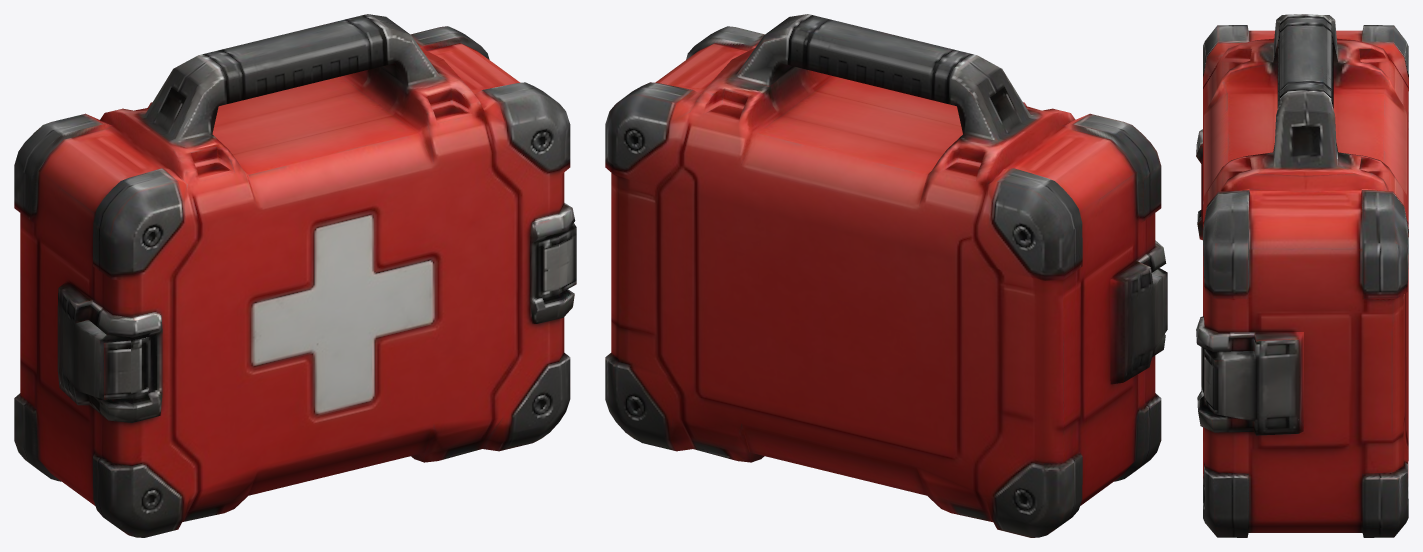
The model's file is health_kit.glb.
The picture shows the model from 3 angles, left to right: view 1: azimuth 30°, elevation 25°; view 2: azimuth 150°, elevation 25°; view 3: azimuth 270°, elevation 25°; orthographic projection. The views are drawn at different scales.
Visible parts, largest first — view 1: tripo_node_77e48288-133c-453d-bf0f-749793dce642; view 2: tripo_node_77e48288-133c-453d-bf0f-749793dce642; view 3: tripo_node_77e48288-133c-453d-bf0f-749793dce642.
Boxes of the visible parts, x1=… form: tripo_node_77e48288-133c-453d-bf0f-749793dce642: x1=14, y1=14, x2=576, y2=537; tripo_node_77e48288-133c-453d-bf0f-749793dce642: x1=605, y1=14, x2=1167, y2=537; tripo_node_77e48288-133c-453d-bf0f-749793dce642: x1=1196, y1=14, x2=1408, y2=537.
Size of the model in its own units: 0.9995 by 0.8276 by 0.3999.
1 material, 1 textured.
